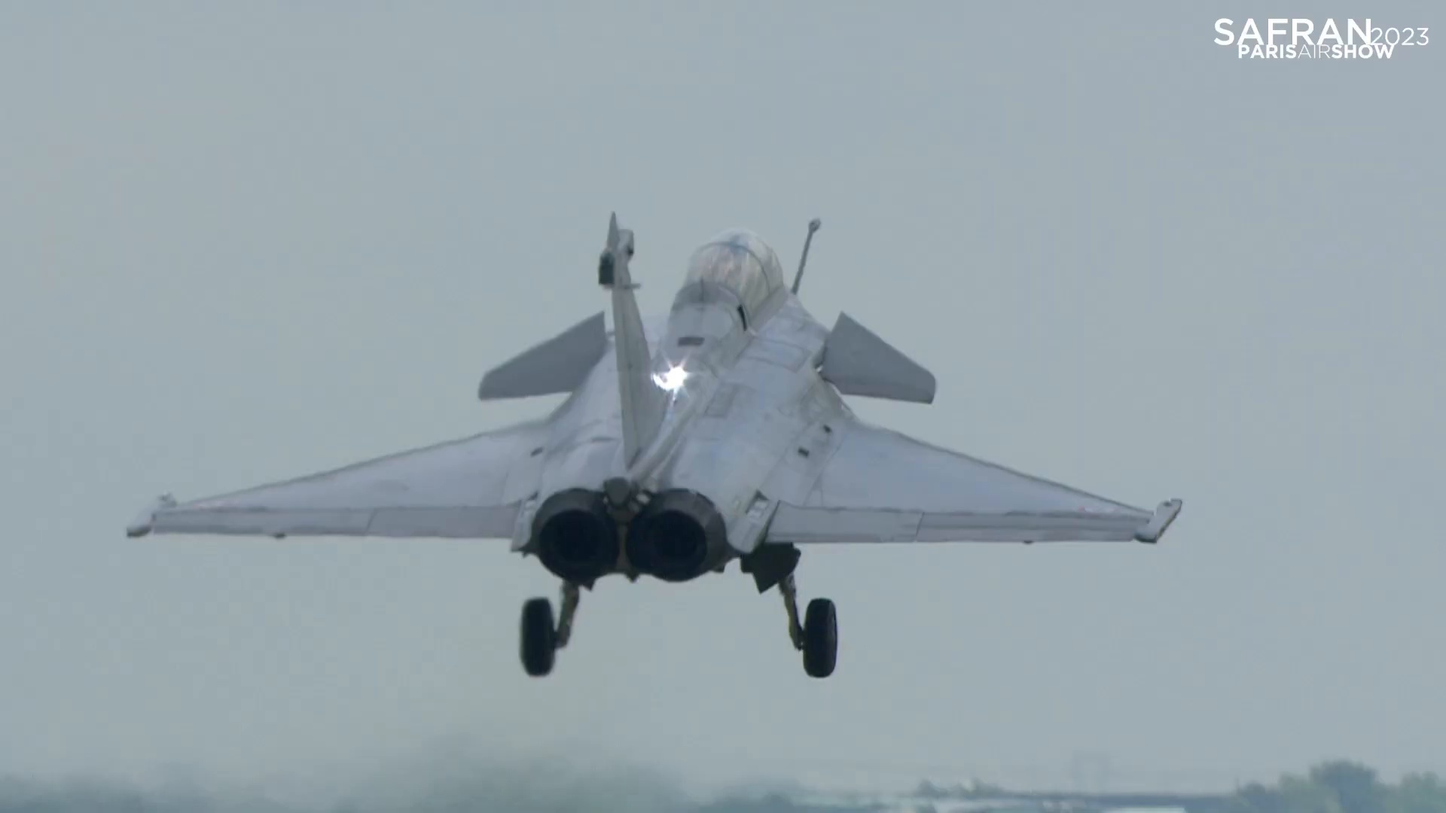Rafale: (132, 206, 1185, 688)
